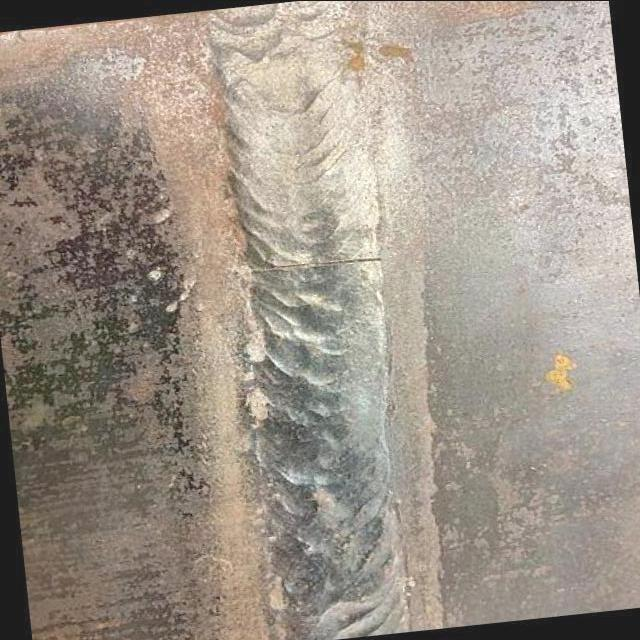defect: (254, 253, 394, 275)
